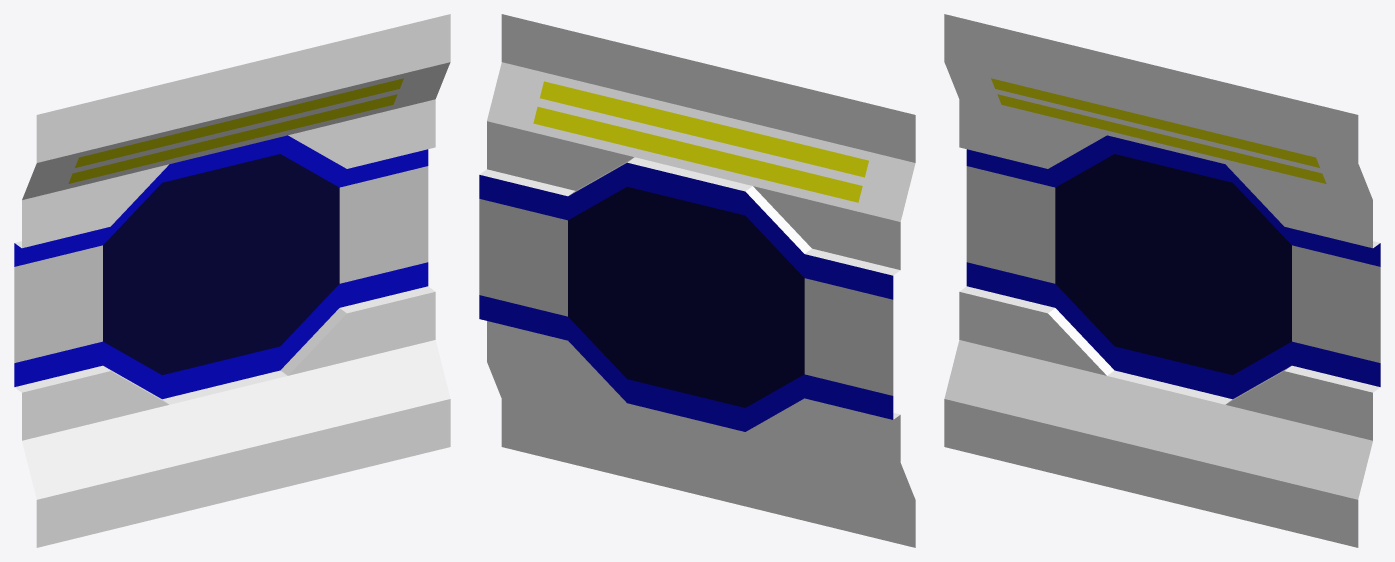
File: Wall002WindowLigth.fbx
3 views of the same model, side by side, from view 1: azimuth 30°, elevation 25°; view 2: azimuth 150°, elevation 25°; view 3: azimuth 330°, elevation 25° (orthographic).
Visible parts, largest first — view 1: Wall002WindowLigth; view 2: Wall002WindowLigth; view 3: Wall002WindowLigth.
Part boxes in pixels (box(x1,y1,x2,y2)): Wall002WindowLigth: box(14, 14, 450, 547); Wall002WindowLigth: box(479, 14, 915, 547); Wall002WindowLigth: box(944, 14, 1380, 547).
Bounding box in the file's own units: 2 × 2 × 0.1875.
